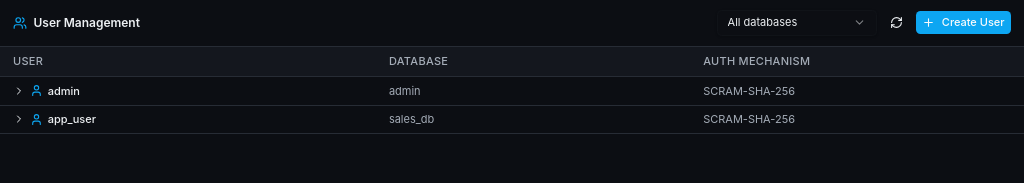
UserManagementView (user & role management) › lists users as a tree and expands a user to show its roles
Expected: the text "app_user" is shown, left=48, top=112, right=96, bottom=127
Expected: the text "root@admin" is not shown
Click the element with test id "user-row-admin.admin" at point(404, 90), box left=13, top=84, right=795, bottom=98
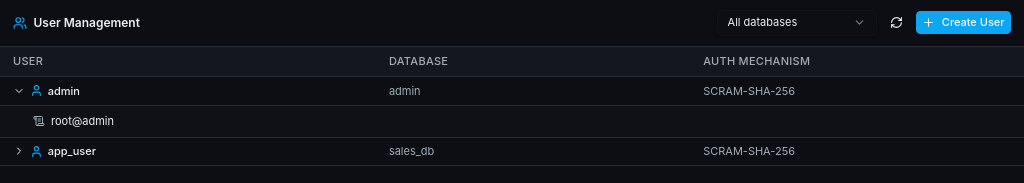
Result: the text "root@admin" is shown at left=51, top=114, right=114, bottom=128
Click the element with test id "user-row-admin.admin" at point(404, 90), box left=13, top=84, right=795, bottom=98
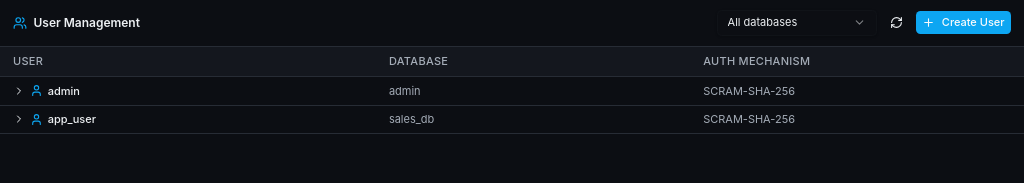
Result: the text "root@admin" is gone
